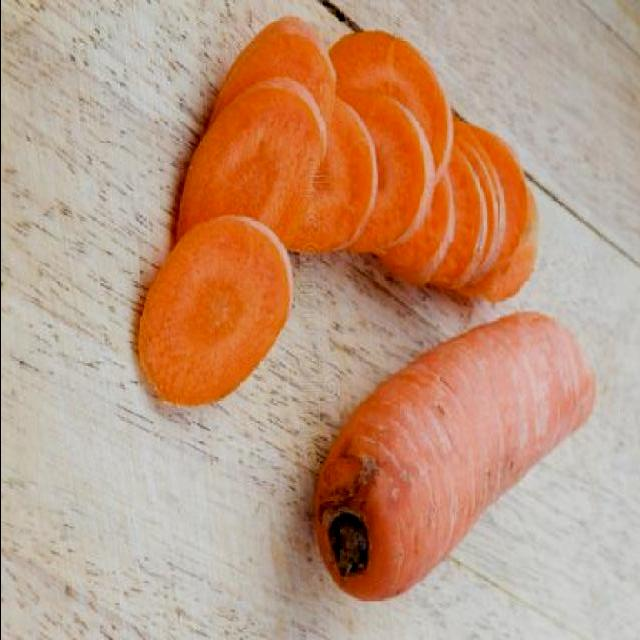carrot: (301, 303, 598, 607)
